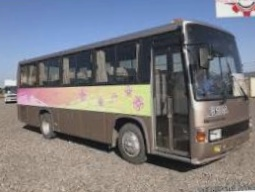bus: (11, 16, 253, 177)
